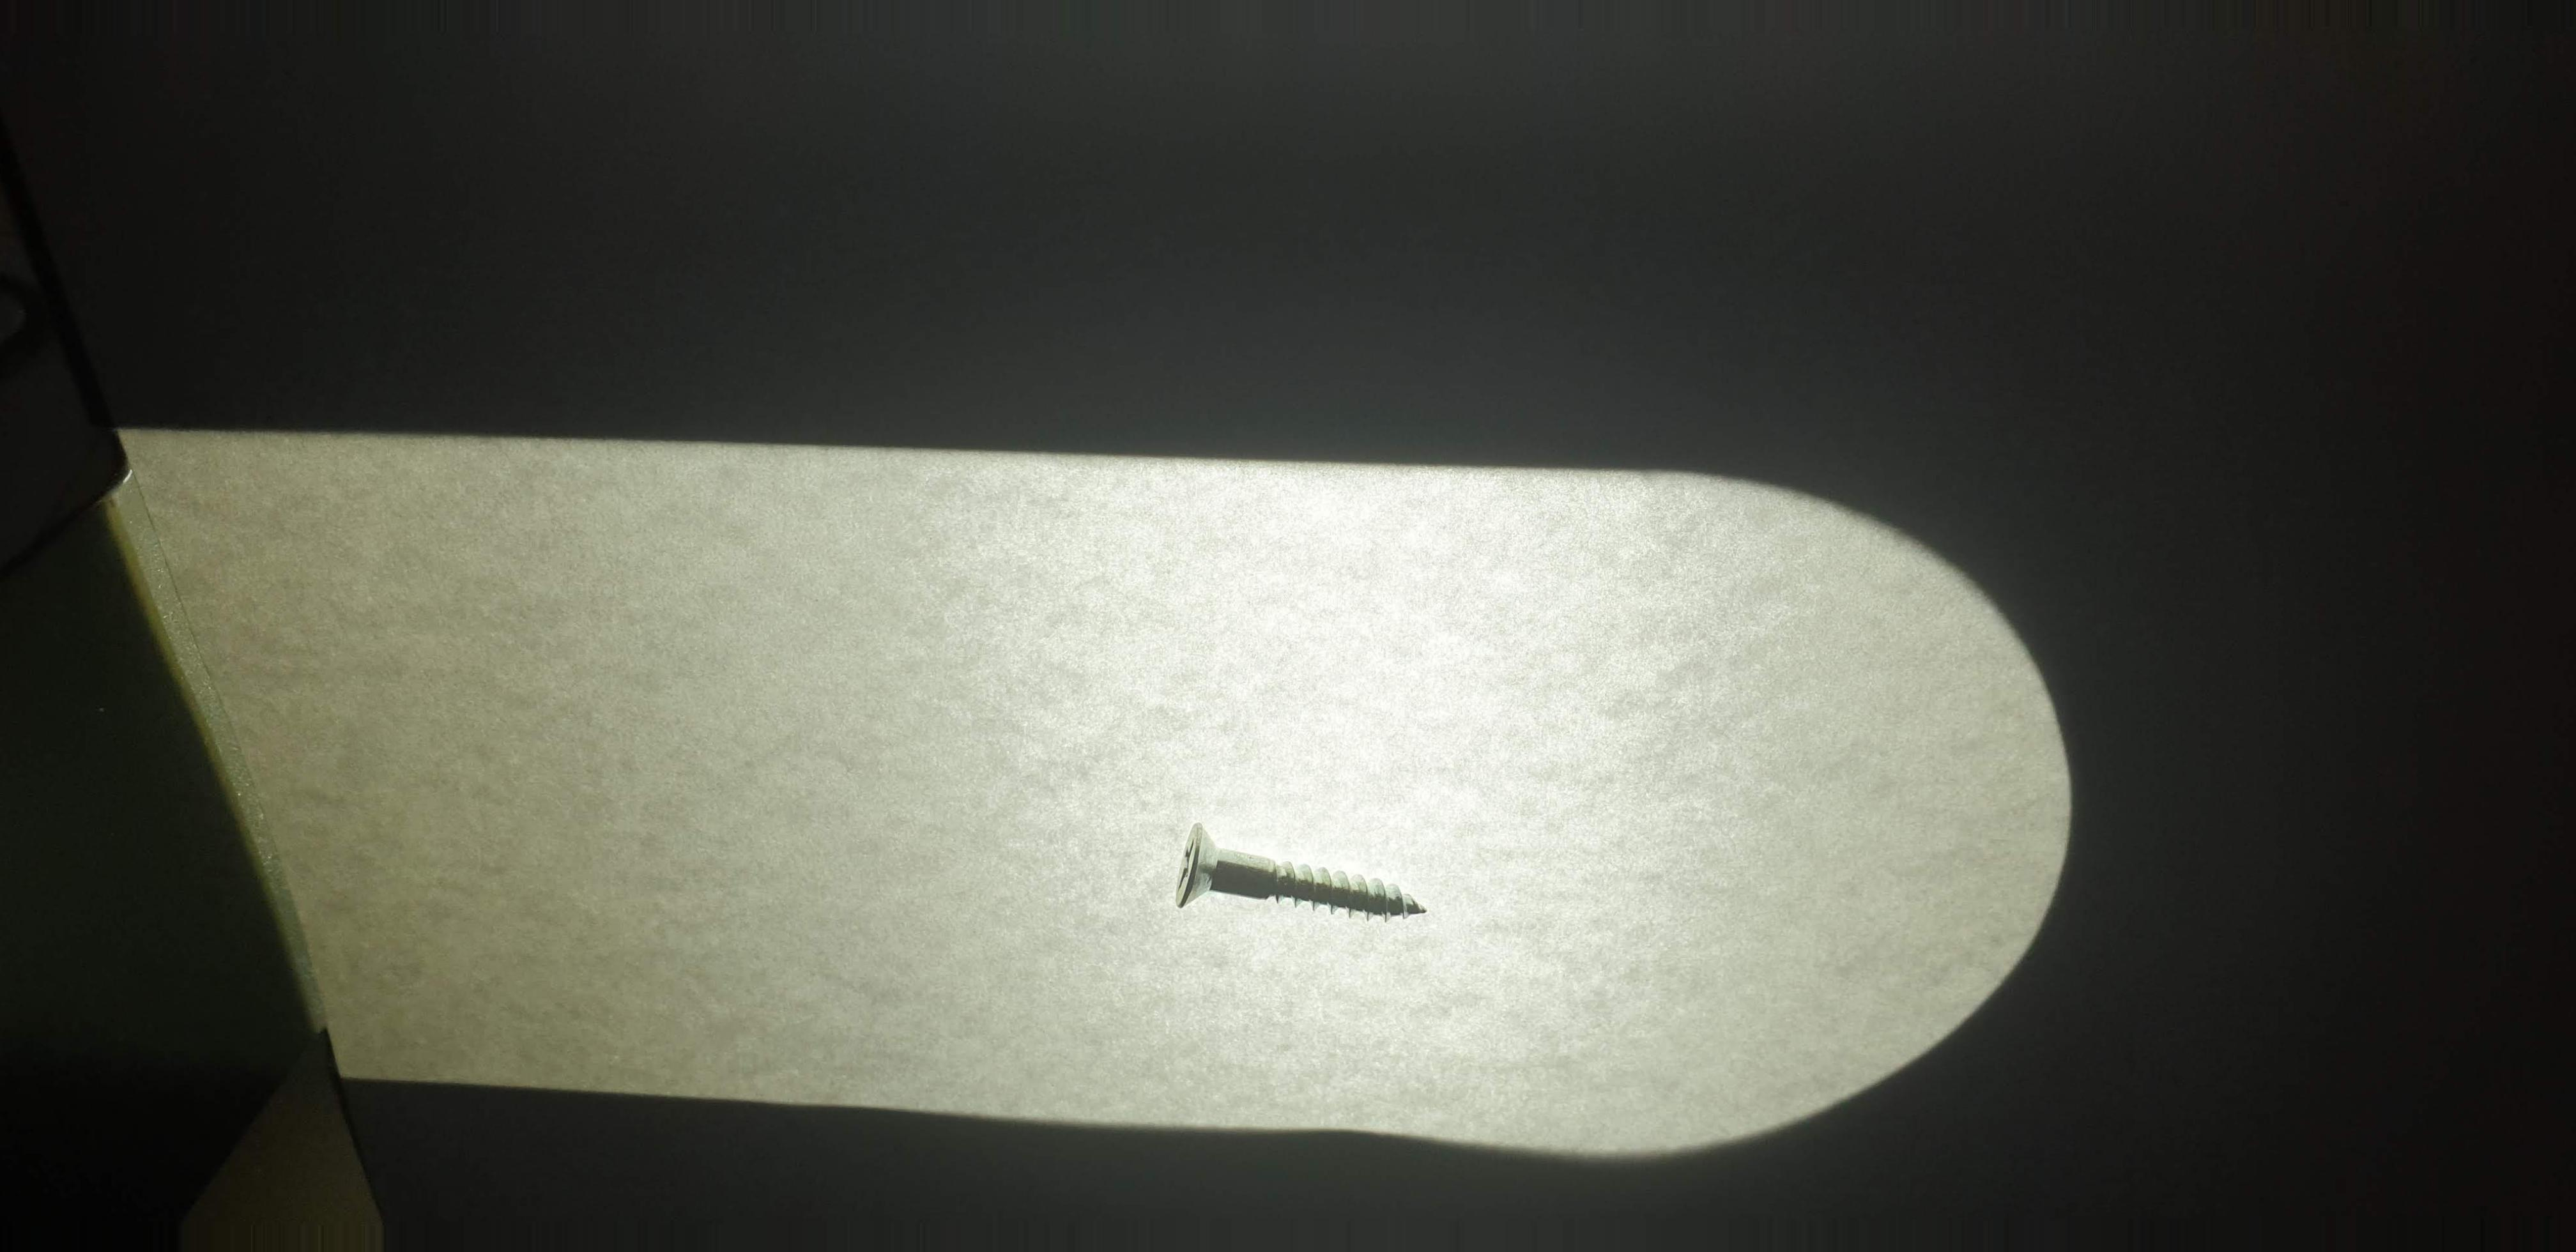S005: (1147, 784, 1479, 966)
